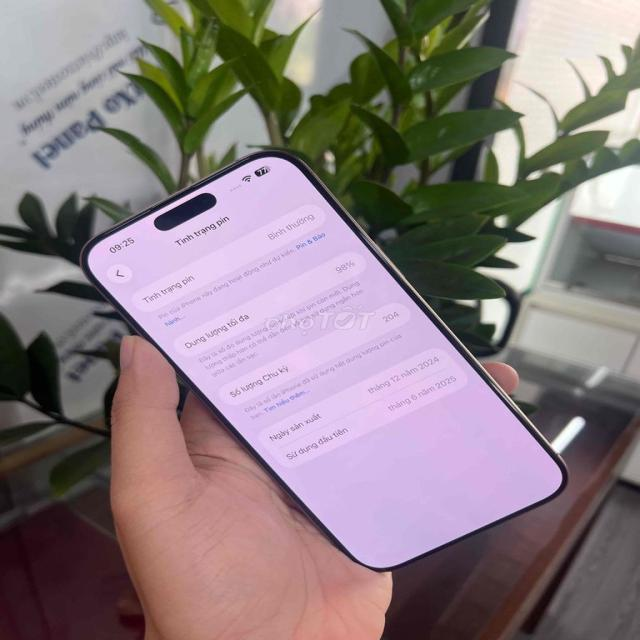gen_16: (83, 152, 565, 571)
